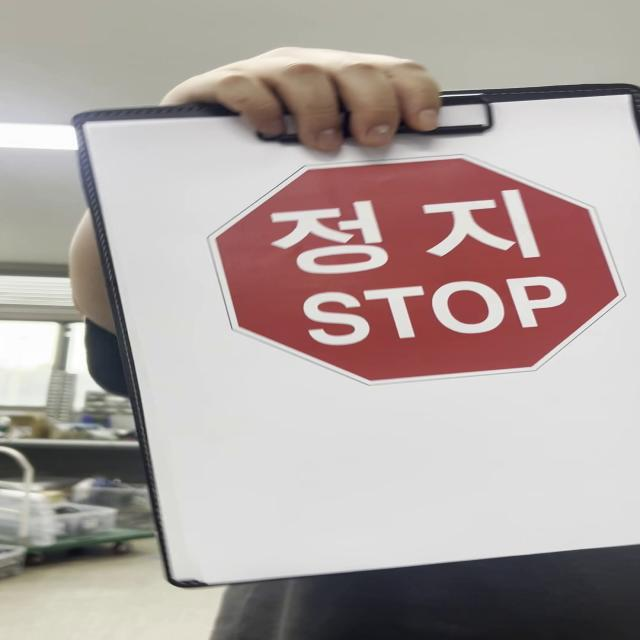stop: (206, 155, 626, 385)
